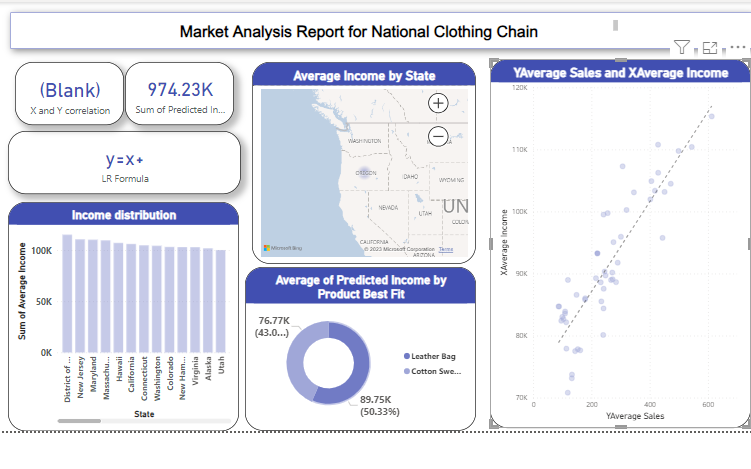

Layout of this report page (visuals, bound fields, positions):
{"tool":"powerbi","page":{"name":"Visuals","canvas":[1280,720],"ordinal":0},"visuals":[{"type":"shape","box":[0,0,1280,720.6],"z":0},{"type":"shape","box":[0,0,1280,95.7],"z":1000},{"type":"scatterChart","fields":{"X":["Regression Table.YAverage Sales"],"Y":["Regression Table.XAverage Income"]},"box":[823.1,95.7,438.4,619.8],"z":2000},{"type":"card","fields":{"Values":["Regression Table.LR Formula"]},"box":[13.4,216.7,391.4,105.8],"z":3000},{"type":"map","title":"Average Income by State","fields":{"Category":["Avg Income by State.State"],"Size":["Sum(Regression Table.XAverage Income)"]},"box":[423.3,100.8,376.3,339.3],"z":4000},{"type":"card","fields":{"Values":["Regression Table.R Average of X and Y correlation for State"]},"box":[25.2,100.8,183.1,105.8],"z":5000},{"type":"card","fields":{"Values":["Sum(Customer List.Predicted Income)"]},"box":[210,100.8,183.1,105.8],"z":6000},{"type":"donutChart","fields":{"Category":["Customer List.Product Best Fit"],"Y":["Avg(Customer List.Predicted Income)"]},"box":[411.5,445.1,388,275.5],"z":7000},{"type":"columnChart","title":"Income distribution","fields":{"Y":["Sum(Avg Income by State.Average Income)"],"Category":["Avg Income by State.State"]},"box":[13.4,336,388,384.7],"z":8000},{"type":"textbox","box":[178.1,25.2,865.1,45.4],"z":9000}]}

Visuals, with their boxes on the page's 1280x720 design canvas (x1, y1, x2, y2). These are canvas units, not pixel positions in the 751x469 screenshot, which may show the page scaled, cropped or inside an application window:
shape: (left=0, top=0, right=1280, bottom=721)
shape: (left=0, top=0, right=1280, bottom=96)
scatterChart - Regression Table.YAverage Sales x Regression Table.XAverage Income: (left=823, top=96, right=1262, bottom=716)
card - Regression Table.LR Formula: (left=13, top=217, right=405, bottom=322)
"Average Income by State" map: (left=423, top=101, right=800, bottom=440)
card - Regression Table.R Average of X and Y correlation for State: (left=25, top=101, right=208, bottom=207)
card - Sum(Customer List.Predicted Income): (left=210, top=101, right=393, bottom=207)
donutChart - Customer List.Product Best Fit x Avg(Customer List.Predicted Income): (left=412, top=445, right=800, bottom=721)
"Income distribution" columnChart: (left=13, top=336, right=401, bottom=721)
textbox: (left=178, top=25, right=1043, bottom=71)
